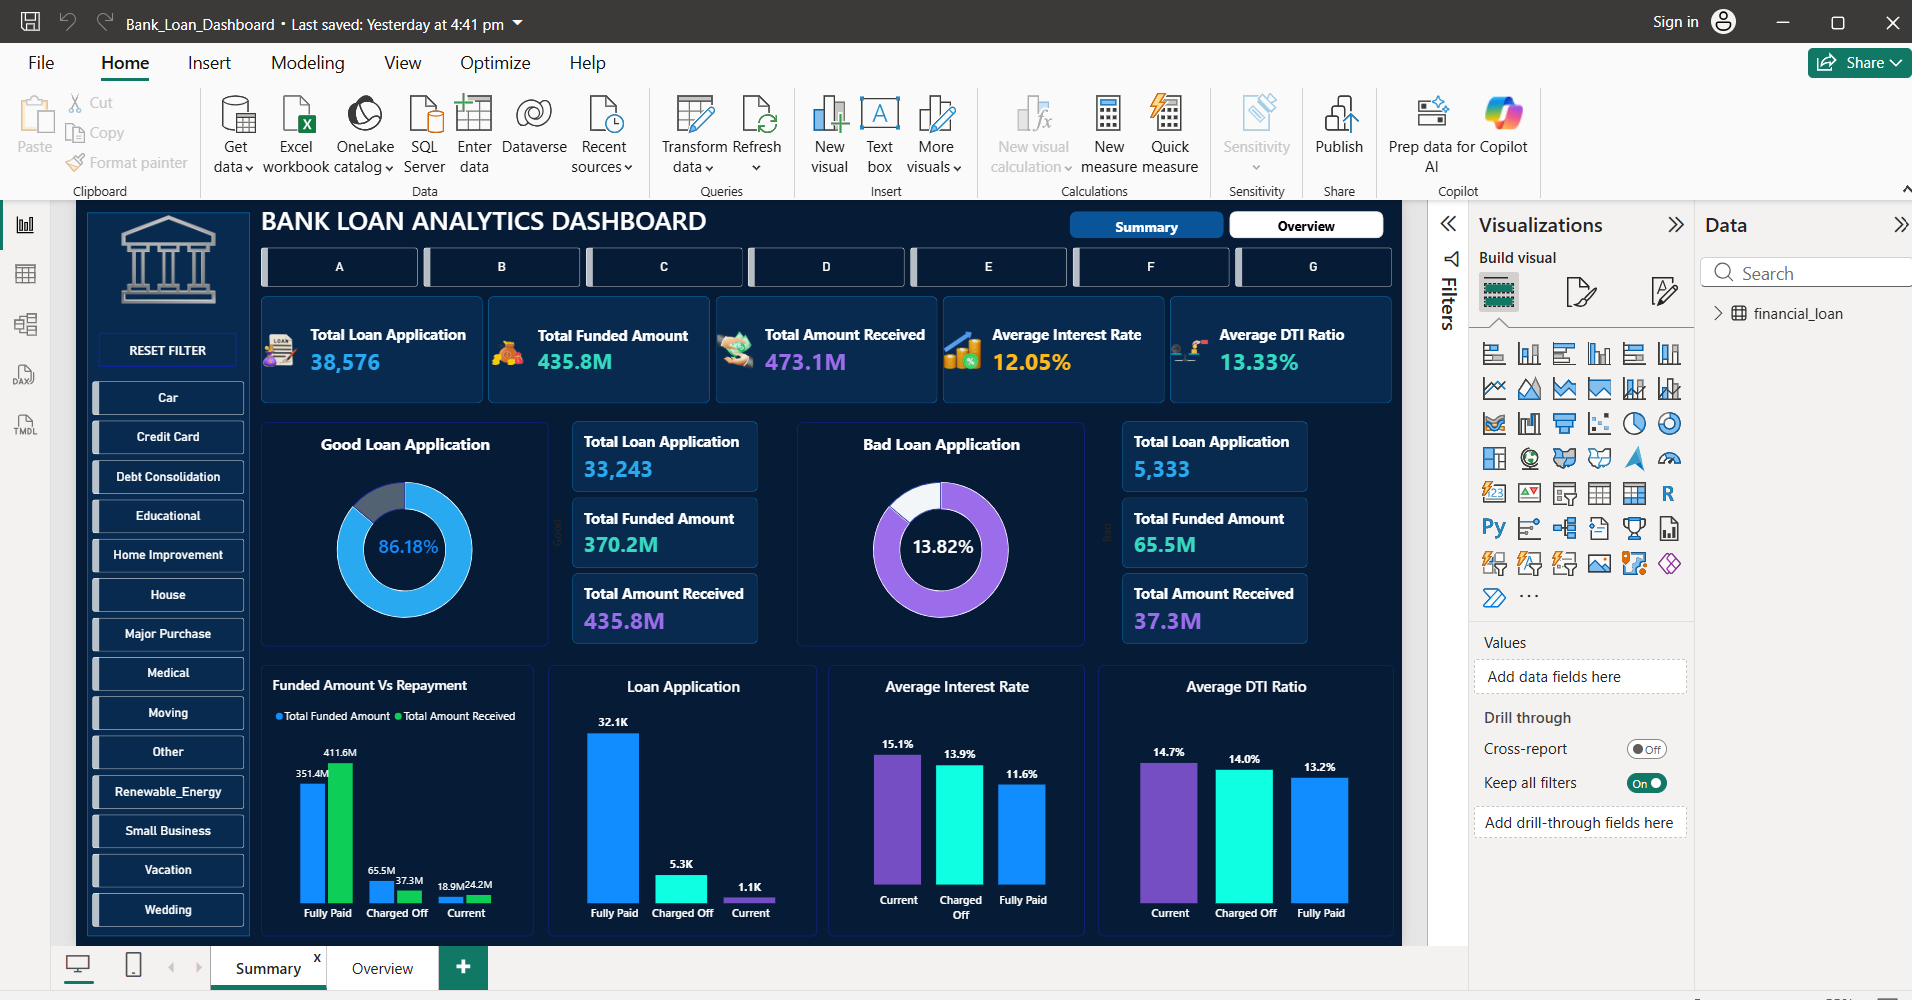

What the dashboard file says about the page in this screenshot:
{"tool":"powerbi","page":{"name":"Summary","canvas":[1920,1080],"ordinal":0},"visuals":[{"type":"textbox","box":[267.8,3.6,776.3,52.5],"z":0},{"type":"shape","box":[16.3,18.1,235.3,1047.8],"z":1},{"type":"image","box":[23.5,18.1,220.8,135.7],"z":2},{"type":"cardVisual","fields":{"Data":["financial_loan.Total Loan Application","financial_loan.Total Funded Amount","financial_loan.Total Amount Received","financial_loan.Average Interest Rate","financial_loan.Average DTI Ratio"]},"box":[267.6,140,1639.6,155.6],"z":4},{"type":"pageNavigator","box":[1438.7,16.3,454.2,39.8],"z":5},{"type":"donutChart","title":"Good Loan Application","fields":{"Category":["financial_loan.Good_vs_Bad_Loan"],"Y":["financial_loan.Total Loan Application"]},"box":[267.8,322.1,416.2,323.9],"z":6},{"type":"donutChart","title":"Bad Loan Application","fields":{"Category":["financial_loan.Good_vs_Bad_Loan"],"Y":["financial_loan.Total Loan Application"]},"box":[1044.2,322.1,416.2,323.9],"z":7},{"type":"cardVisual","fields":{"Data":["financial_loan.Good Loan %"]},"box":[421.7,456,135.7,86.9],"z":8},{"type":"cardVisual","fields":{"Data":["financial_loan.Bad Loan %"]},"box":[1196.2,456,135.7,86.9],"z":9},{"type":"cardVisual","fields":{"Data":["financial_loan.Total Loan Application","financial_loan.Total Funded Amount","financial_loan.Total Amount Received"],"Rows":["financial_loan.Good_vs_Bad_Loan"]},"box":[683.4,321.1,302.6,323.2],"z":10},{"type":"cardVisual","fields":{"Data":["financial_loan.Total Loan Application","financial_loan.Total Funded Amount","financial_loan.Total Amount Received"],"Rows":["financial_loan.Good_vs_Bad_Loan"]},"box":[1479.9,321.1,302.6,323.2],"z":11},{"type":"clusteredColumnChart","title":"Funded Amount Vs Repayment ","fields":{"Category":["financial_loan.LOAN_STATUS"],"Y":["financial_loan.Total Funded Amount","financial_loan.Total Amount Received"]},"box":[267.8,673.2,394.5,392.7],"z":12},{"type":"clusteredColumnChart","title":"Loan Application ","fields":{"Category":["financial_loan.LOAN_STATUS"],"Y":["financial_loan.Total Loan Application"]},"box":[684.1,673.2,389.1,392.7],"z":13},{"type":"clusteredColumnChart","title":"Average Interest Rate","fields":{"Category":["financial_loan.LOAN_STATUS"],"Y":["financial_loan.Average Interest Rate"]},"box":[1089.4,673.2,371,392.7],"z":14},{"type":"clusteredColumnChart","title":"Average DTI Ratio","fields":{"Category":["financial_loan.LOAN_STATUS"],"Y":["financial_loan.Average DTI Ratio"]},"box":[1480.3,673.2,427.1,392.7],"z":15},{"type":"advancedSlicerVisual","fields":{"Values":["financial_loan.PURPOSE"]},"box":[23.5,262.4,220.8,790.8],"z":16},{"type":"advancedSlicerVisual","fields":{"Values":["financial_loan.GRADE"]},"box":[267.8,68.8,1639.6,57.9],"z":17},{"type":"actionButton","box":[32.6,191.8,200,50],"z":18}]}

Visuals, with their boxes on the page's 1920x1080 design canvas (x1, y1, x2, y2). These are canvas units, not pixel positions in the 1912x1000 screenshot, which may show the page scaled, cropped or inside an application window:
textbox: l=268, t=4, r=1044, b=56
shape: l=16, t=18, r=252, b=1066
image: l=24, t=18, r=244, b=154
cardVisual - financial_loan.Total Loan Application x financial_loan.Total Funded Amount: l=268, t=140, r=1907, b=296
pageNavigator: l=1439, t=16, r=1893, b=56
"Good Loan Application" donutChart: l=268, t=322, r=684, b=646
"Bad Loan Application" donutChart: l=1044, t=322, r=1460, b=646
cardVisual - financial_loan.Good Loan %: l=422, t=456, r=557, b=543
cardVisual - financial_loan.Bad Loan %: l=1196, t=456, r=1332, b=543
cardVisual - financial_loan.Total Loan Application x financial_loan.Total Funded Amount: l=683, t=321, r=986, b=644
cardVisual - financial_loan.Total Loan Application x financial_loan.Total Funded Amount: l=1480, t=321, r=1782, b=644
"Funded Amount Vs Repayment " clusteredColumnChart: l=268, t=673, r=662, b=1066
"Loan Application " clusteredColumnChart: l=684, t=673, r=1073, b=1066
"Average Interest Rate" clusteredColumnChart: l=1089, t=673, r=1460, b=1066
"Average DTI Ratio" clusteredColumnChart: l=1480, t=673, r=1907, b=1066
advancedSlicerVisual - financial_loan.PURPOSE: l=24, t=262, r=244, b=1053
advancedSlicerVisual - financial_loan.GRADE: l=268, t=69, r=1907, b=127
actionButton: l=33, t=192, r=233, b=242
